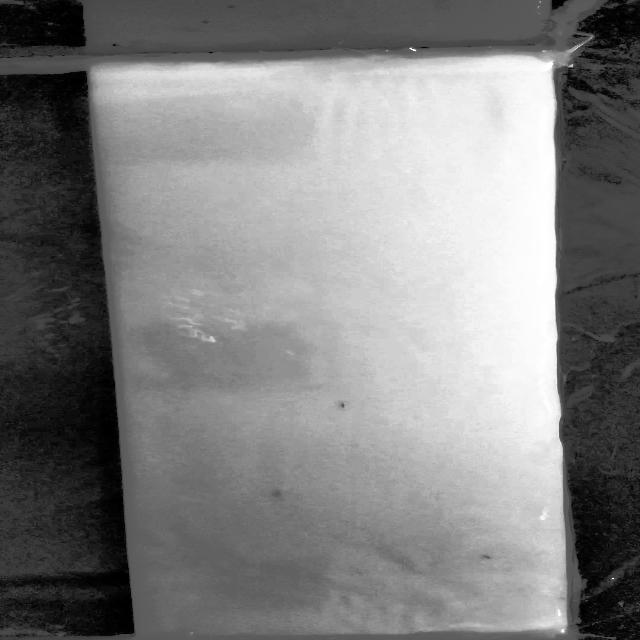shrimp: (258, 483, 305, 509), (464, 545, 503, 567), (328, 396, 361, 416)
